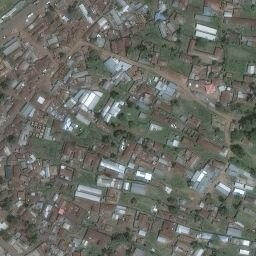tree: (230, 144, 245, 157), (112, 232, 129, 243), (230, 129, 243, 142), (26, 234, 38, 246), (218, 205, 228, 214), (168, 205, 177, 214), (7, 135, 16, 143), (6, 215, 15, 223), (109, 91, 119, 98), (167, 196, 177, 203), (101, 135, 109, 143), (127, 120, 135, 128), (117, 113, 126, 120), (114, 129, 121, 138), (170, 99, 178, 106), (94, 112, 102, 119), (130, 197, 137, 204), (110, 141, 117, 148), (186, 180, 194, 186), (127, 102, 134, 108), (59, 53, 66, 59), (110, 152, 115, 158)
